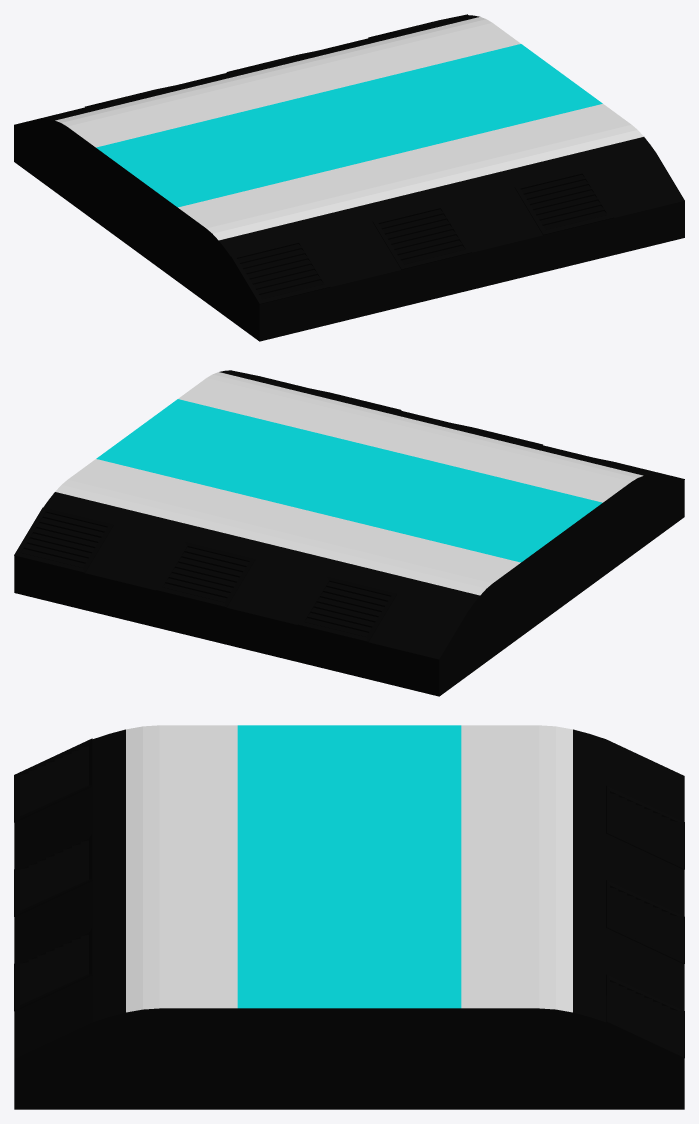
Rendered from pathStraightCurved.fbx.
The picture shows the model from 3 angles, top to bottom: view 1: azimuth 30°, elevation 25°; view 2: azimuth 150°, elevation 25°; view 3: azimuth 270°, elevation 25°; orthographic projection. The views are drawn at different scales.
Parts seen in each view (by area): view 1: Plane; view 2: Plane; view 3: Plane.
Part boxes in pixels (x1,y1,x2,y2): Plane: (14,14,684,341); Plane: (14,370,684,696); Plane: (14,725,684,1109).
Bounding box in the file's own units: 600 × 100 × 601.
